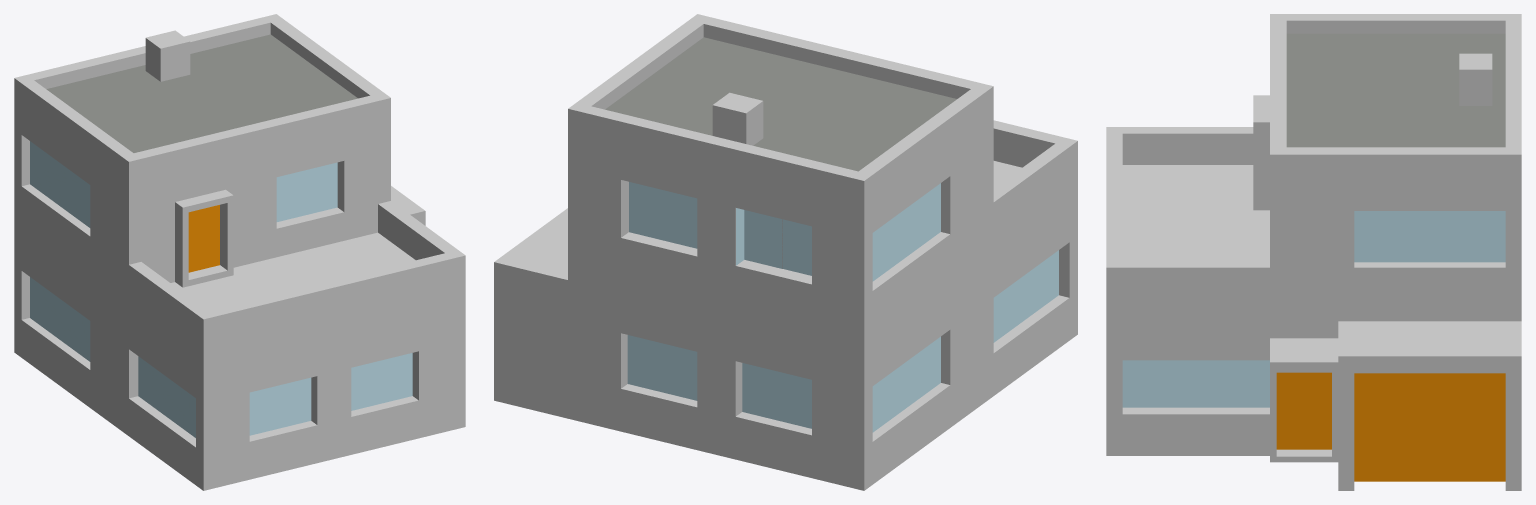
Rendered from house1.fbx.
3 views of the same model, side by side, from view 1: azimuth 30°, elevation 25°; view 2: azimuth 150°, elevation 25°; view 3: azimuth 270°, elevation 25° (orthographic). The views are drawn at different scales.
Visible parts, largest first — view 1: Cube; view 2: Cube; view 3: Cube.
Part boxes in pixels (x1=…): Cube: x1=14, y1=14, x2=465, y2=490; Cube: x1=494, y1=14, x2=1077, y2=490; Cube: x1=1106, y1=14, x2=1521, y2=490.
Size of the model in its own units: 100 by 86.22 by 100.
